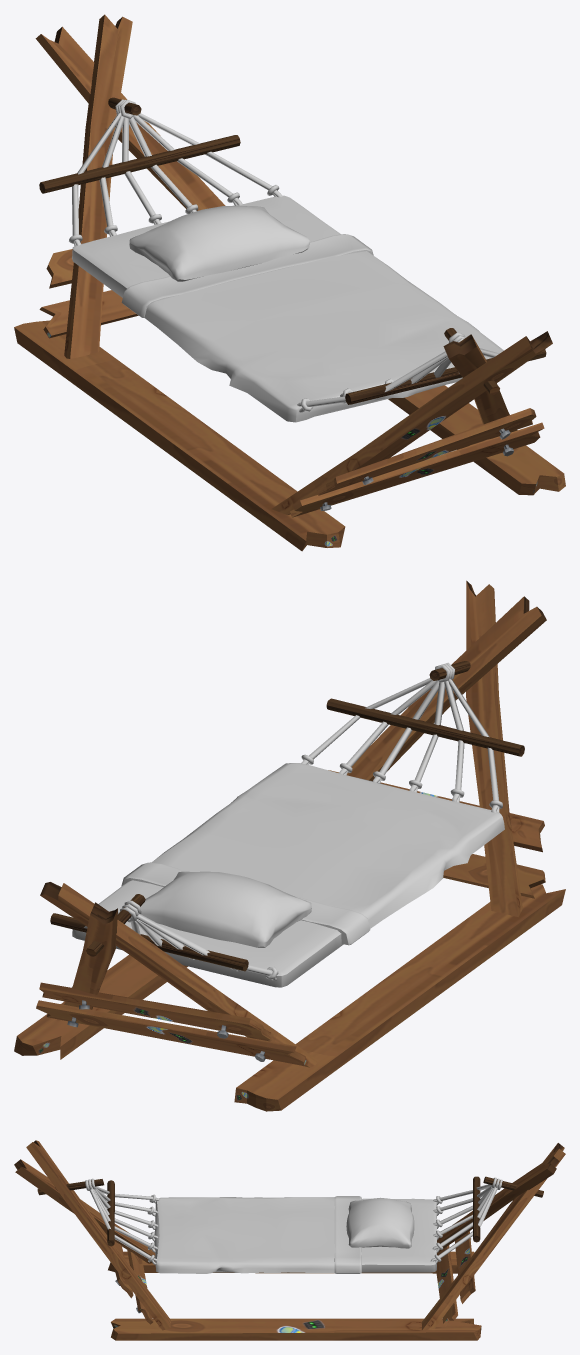
File: Hammock.fbx
3 views of the same model, one above another, from view 1: azimuth 30°, elevation 25°; view 2: azimuth 150°, elevation 25°; view 3: azimuth 270°, elevation 25° (orthographic). The views are drawn at different scales.
Visible parts, largest first — view 1: obj_interactive_comfybed; view 2: obj_interactive_comfybed; view 3: obj_interactive_comfybed.
Part boxes in pixels (bbox=[...]): obj_interactive_comfybed: bbox=[14, 14, 565, 551]; obj_interactive_comfybed: bbox=[14, 580, 565, 1111]; obj_interactive_comfybed: bbox=[14, 1140, 565, 1340].
Size of the model in its own units: 4.76 by 4.16 by 13.77.
